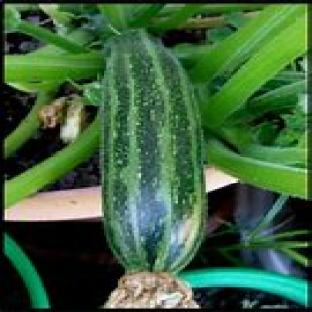Zucchini: (102, 30, 205, 272)
